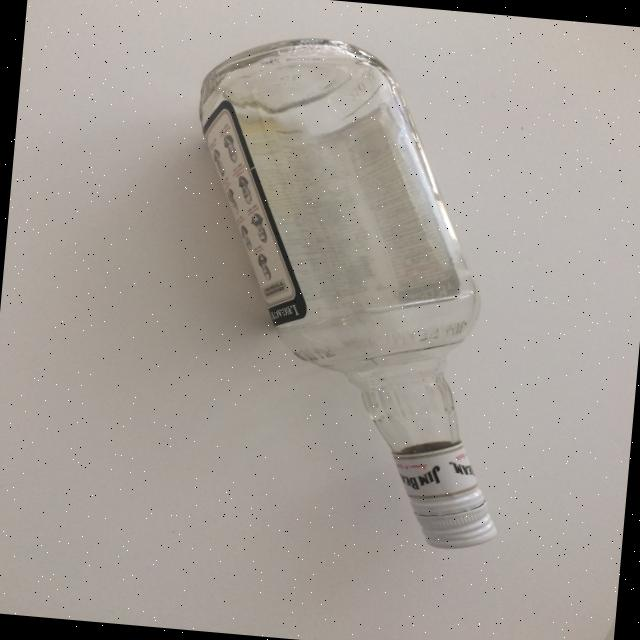glass: (162, 34, 522, 542)
